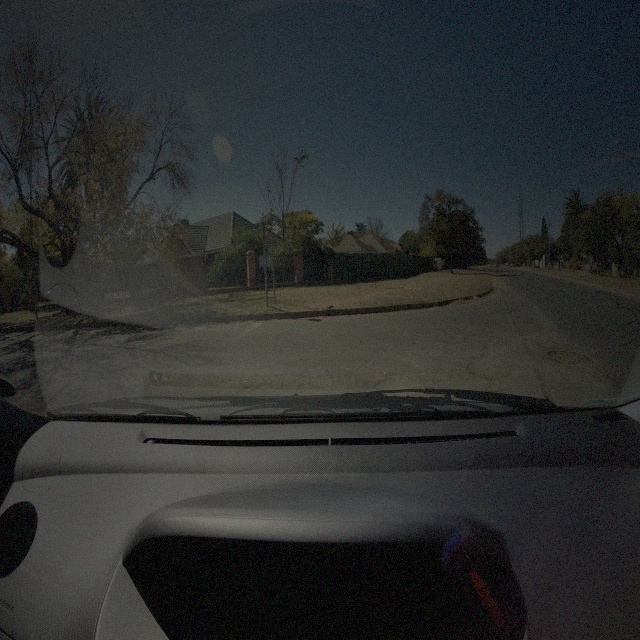pothole: (545, 346, 590, 366)
